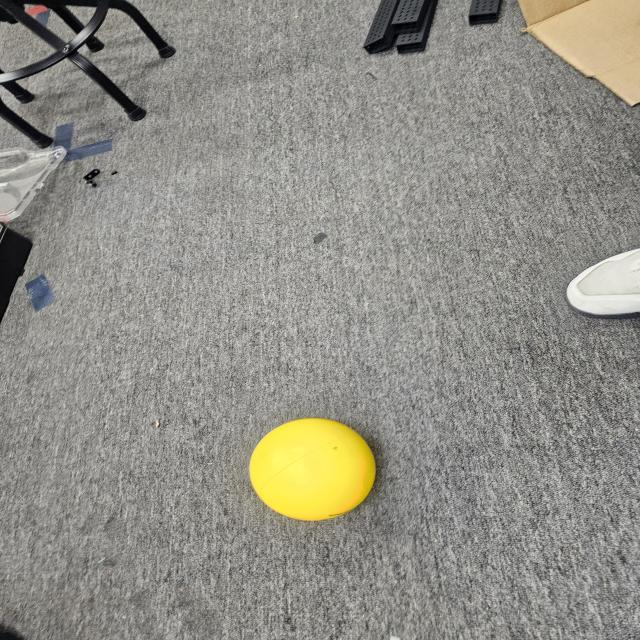Fuel: (243, 412, 385, 528)
